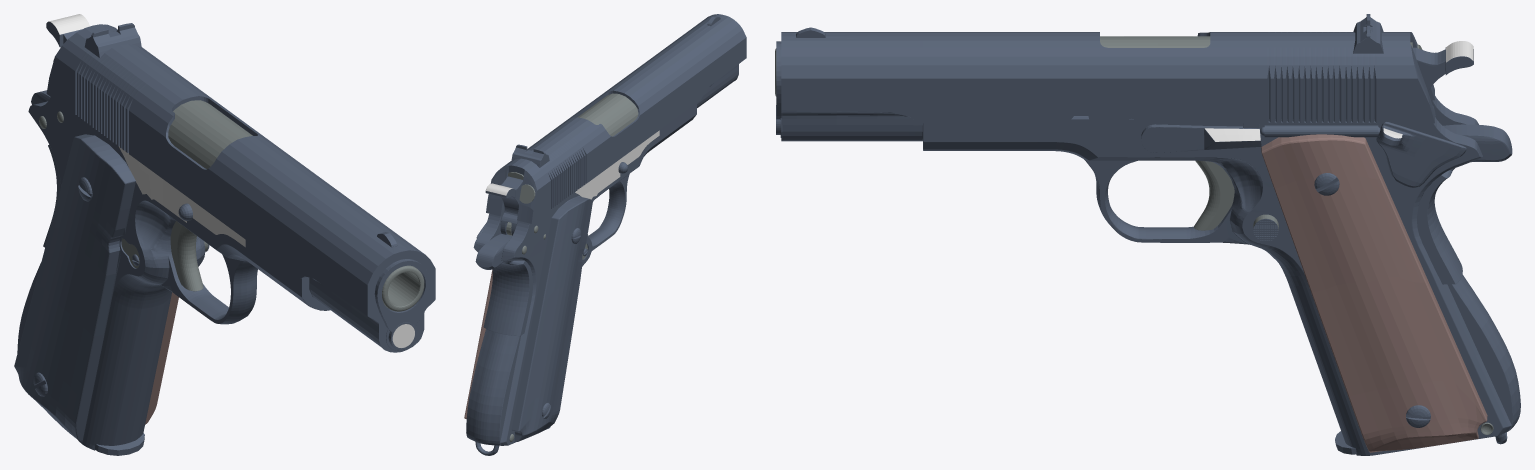
The model's file is Colt.fbx.
The picture shows the model from 3 angles, left to right: view 1: azimuth 30°, elevation 25°; view 2: azimuth 150°, elevation 25°; view 3: azimuth 270°, elevation 25°; orthographic projection. The views are drawn at different scales.
Parts seen in each view (by area): view 1: Colt; view 2: Colt; view 3: Colt.
Part boxes in pixels (<box>): Colt: <box>14,14,435,455</box>; Colt: <box>464,14,746,455</box>; Colt: <box>775,14,1520,455</box>.
Size of the model in its own units: 346 by 1331 by 2128.
